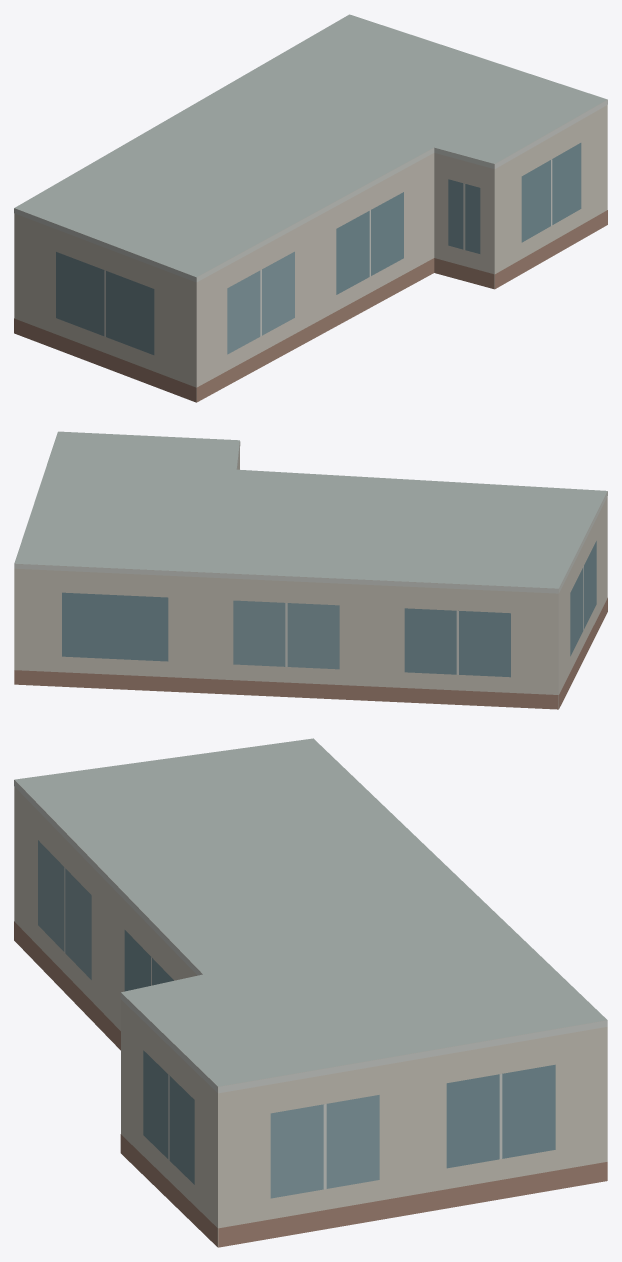
The model's file is survey-upis-32511387.glb.
3 renders of one model, top to bottom at view 1: azimuth 30°, elevation 25°; view 2: azimuth 150°, elevation 25°; view 3: azimuth 270°, elevation 25°, orthographic. The views are drawn at different scales.
Visible parts, largest first — view 1: survey-upis-32511387.tmp; view 2: survey-upis-32511387.tmp; view 3: survey-upis-32511387.tmp.
Boxes of the visible parts, x1,y1,x2,y2 form: survey-upis-32511387.tmp: (14,14,607,402); survey-upis-32511387.tmp: (14,431,607,709); survey-upis-32511387.tmp: (14,738,607,1247).
Bounding box in the file's own units: 14.19 × 3.05 × 10.22.
